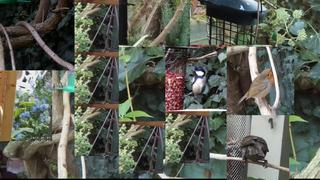great tit: (181, 67, 207, 99)
robin: (236, 67, 274, 108)
starling: (241, 135, 269, 169)
